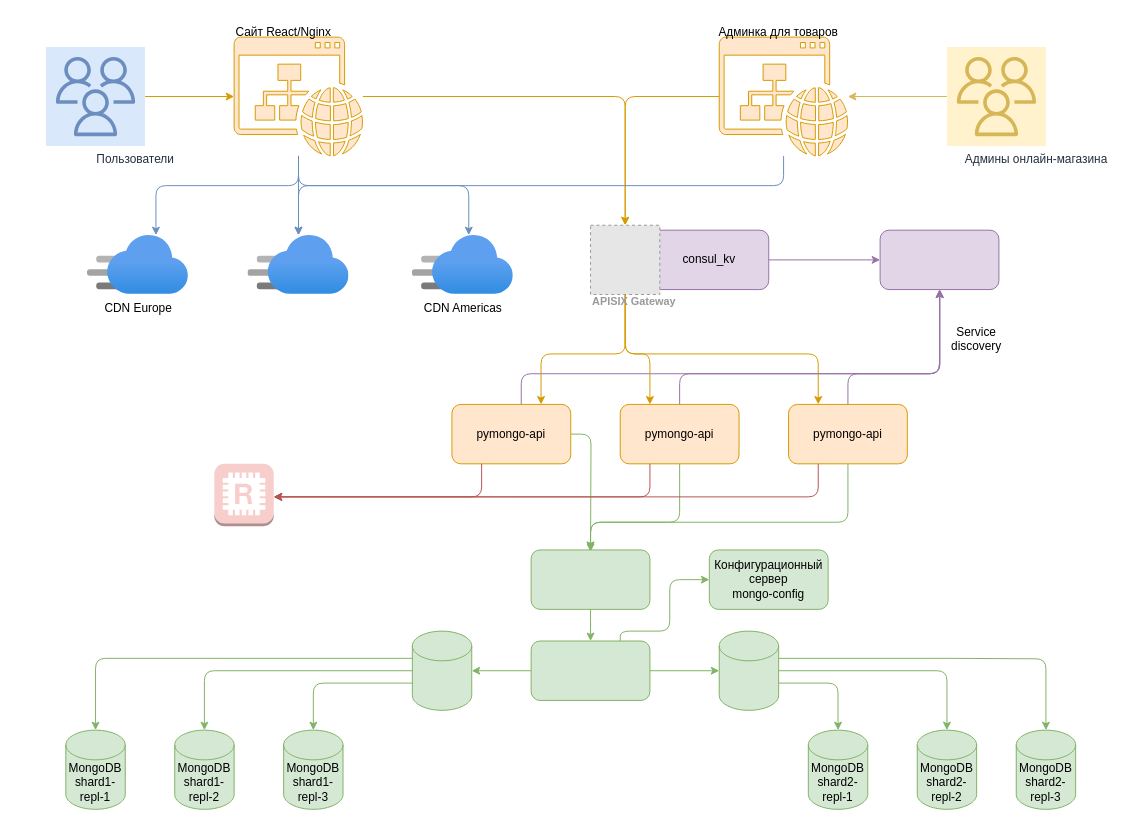
The diagram is 1124 pixels wide and 827 high, and some of its shapes have lost their labels. Grey dashed boxes stand in for pictures. The shapes that lost their labels are listed below. From the top down, each one's centre as x and y in pixels, then its label:
the point at 298,264: CDN Asia
the point at 939,259: Consul
the point at 243,494: Redis
the point at 590,579: Драйвер
the point at 441,670: MongoDB shard1
the point at 590,670: Роутер mongo-router
the point at 748,670: MongoDB shard2
